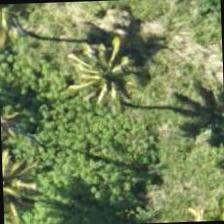Kelapa_Sawit: (57, 21, 150, 114), (0, 81, 51, 174), (1, 137, 54, 223)
